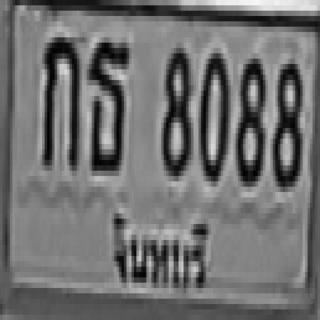A01: (40, 32, 79, 171)
A24: (87, 37, 129, 176)
N00: (198, 48, 228, 176)
N08: (159, 43, 192, 180), (270, 56, 300, 184), (233, 53, 263, 181)
P10: (108, 200, 214, 301)
